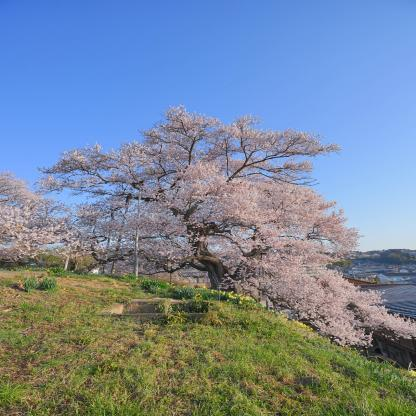EdohiganSakura: (42, 103, 415, 347)
